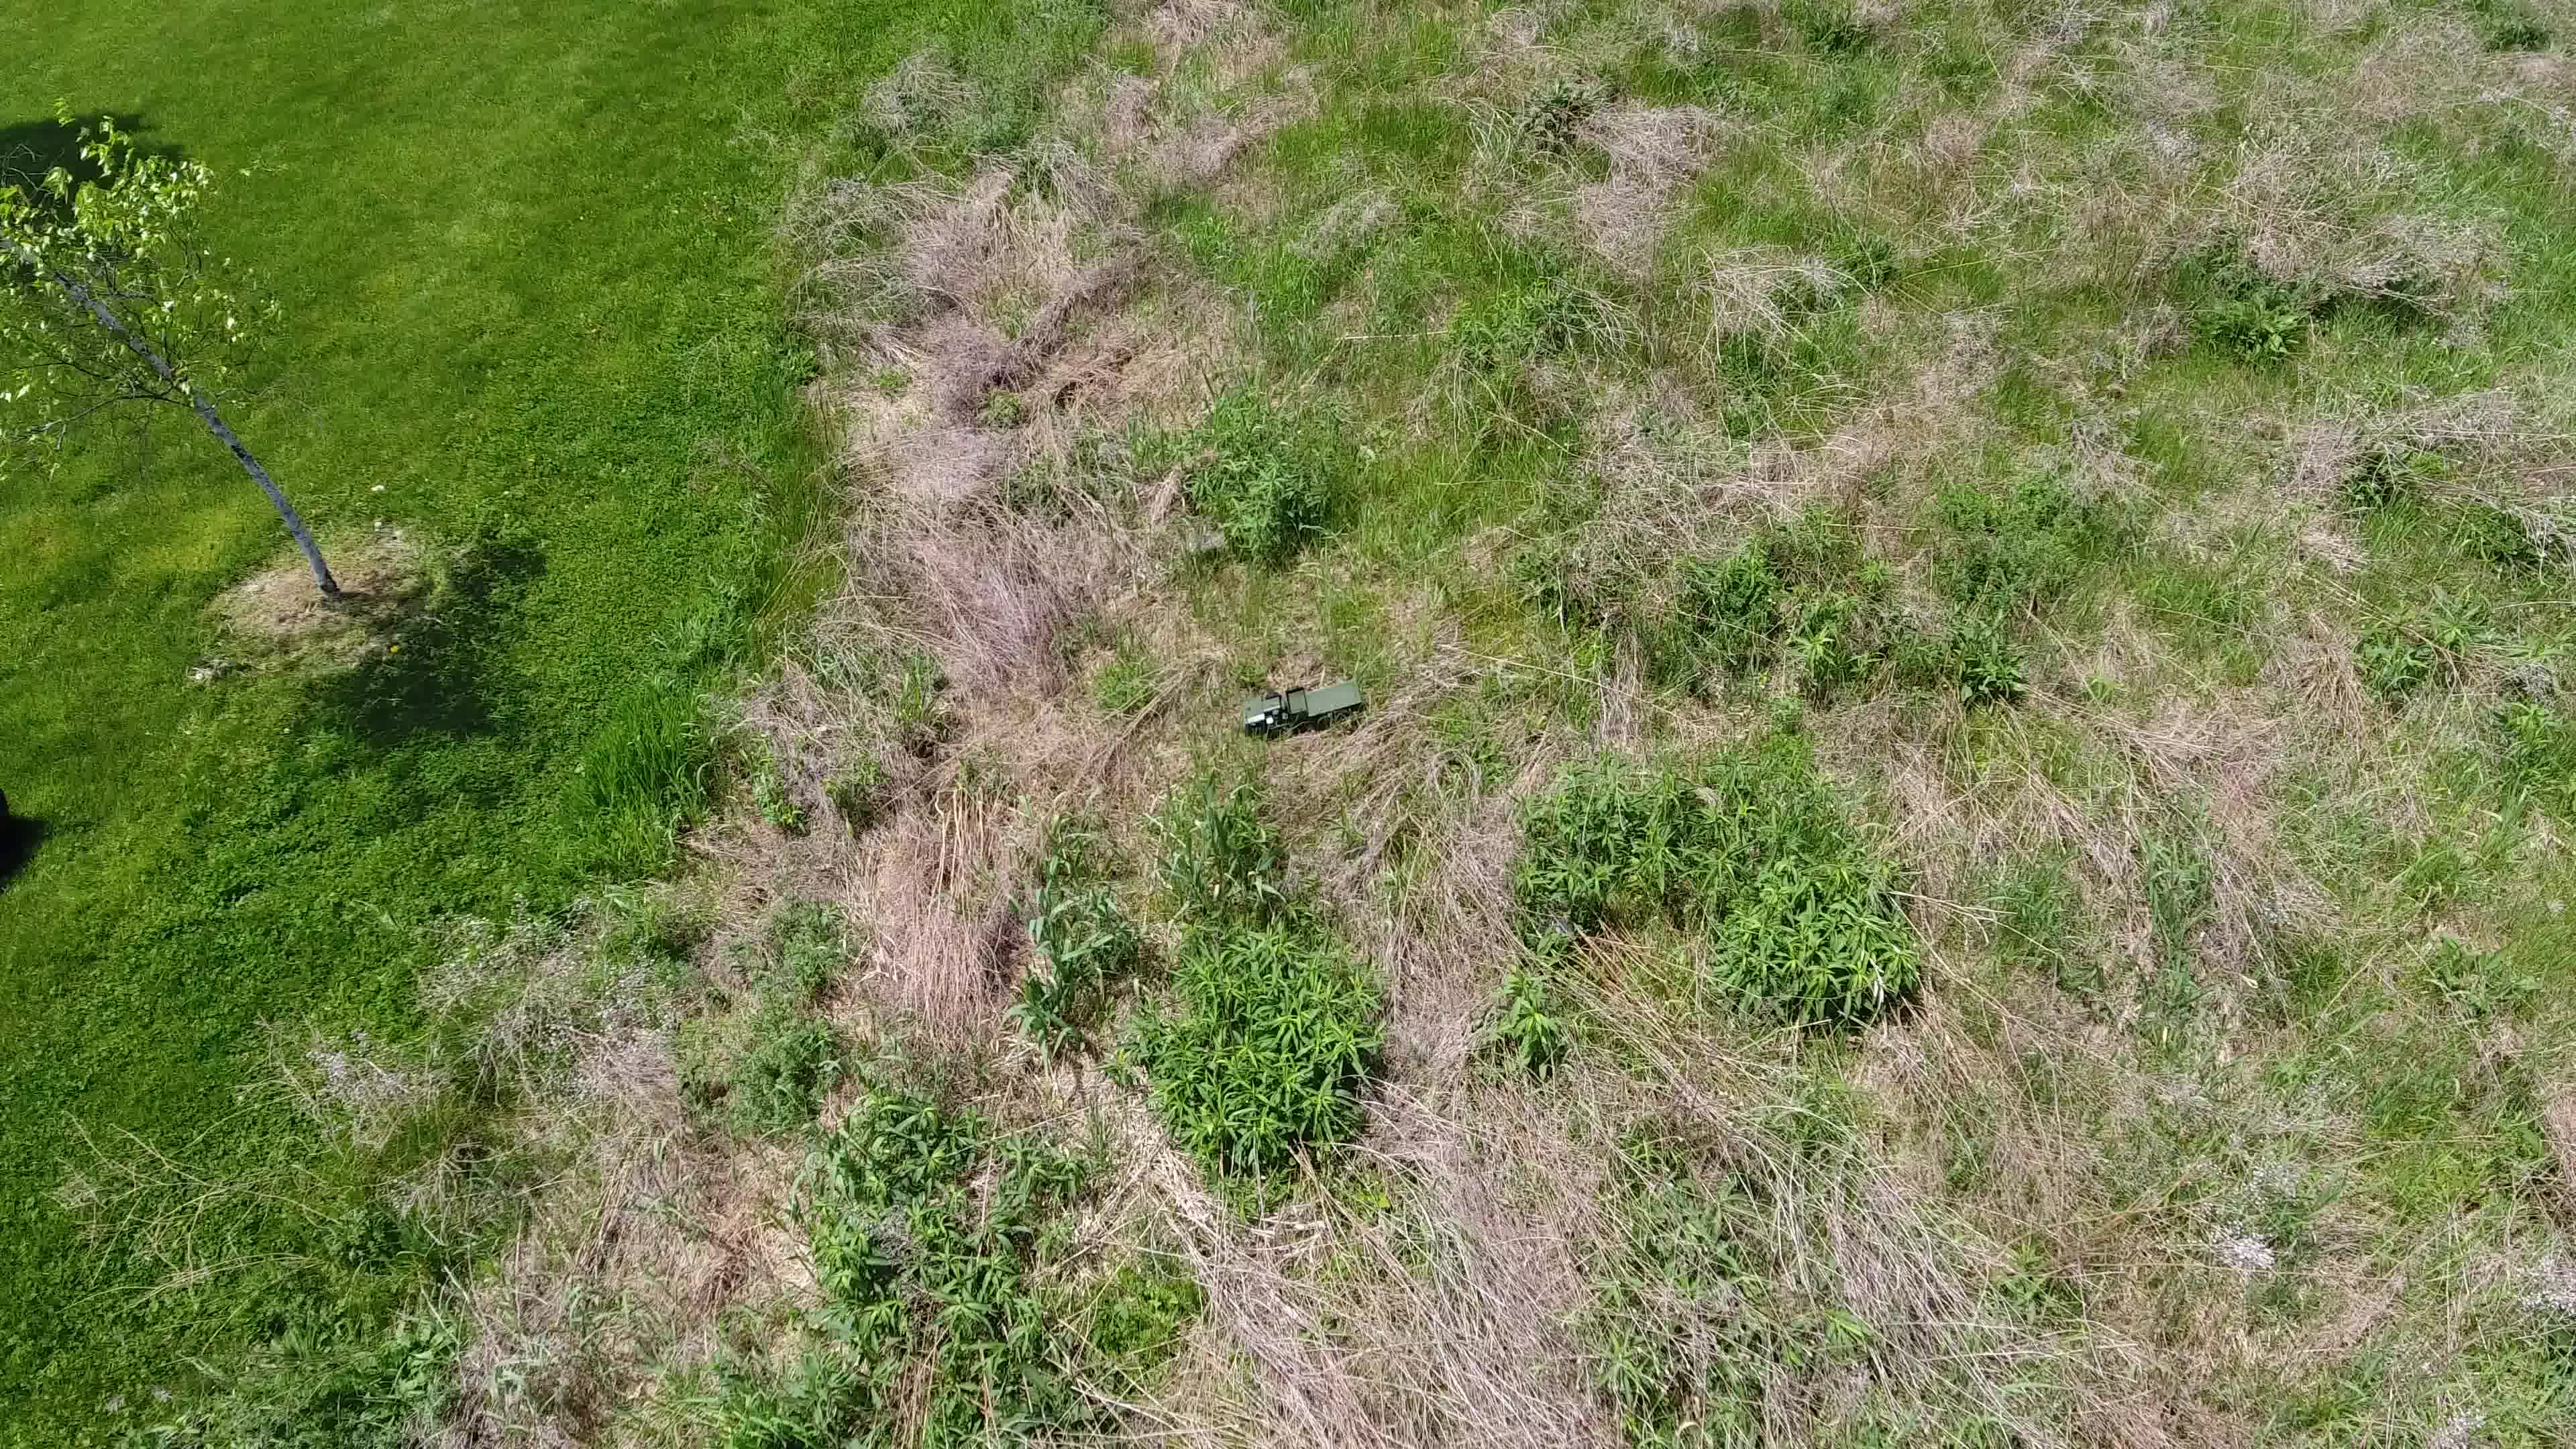transporter9: (1237, 672, 1368, 741)
